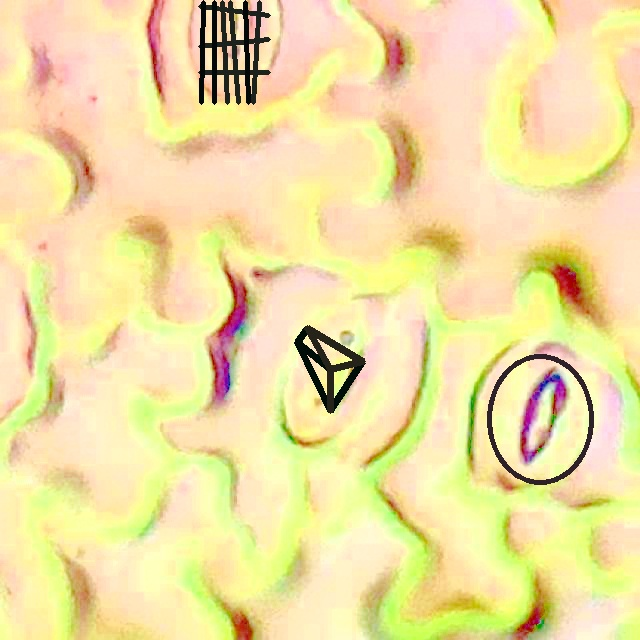open: (486, 353, 595, 485), (198, 1, 270, 103), (294, 325, 365, 413)
